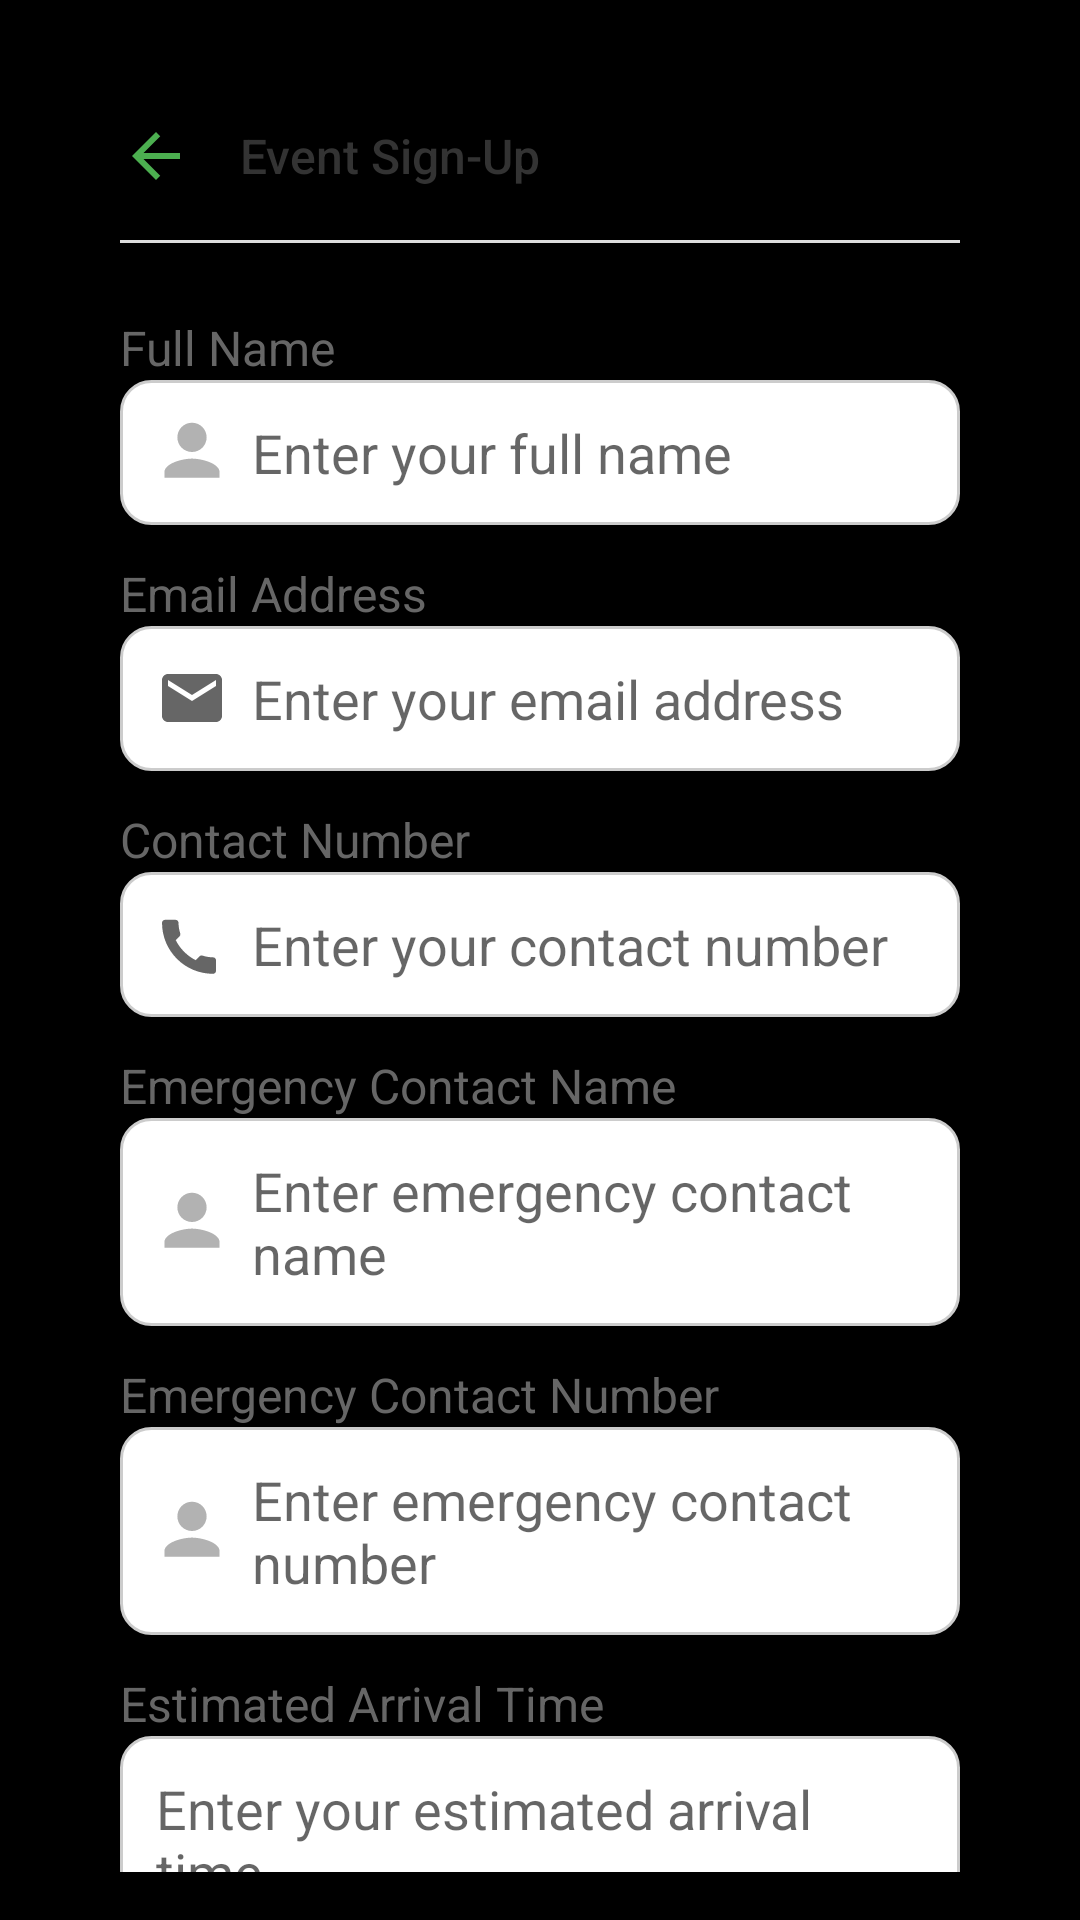

Named icons in this screenshot (1080*1920) and their bounding boxes, (x1, y1, x2, y2):
Back Button: (132, 132, 180, 180)
